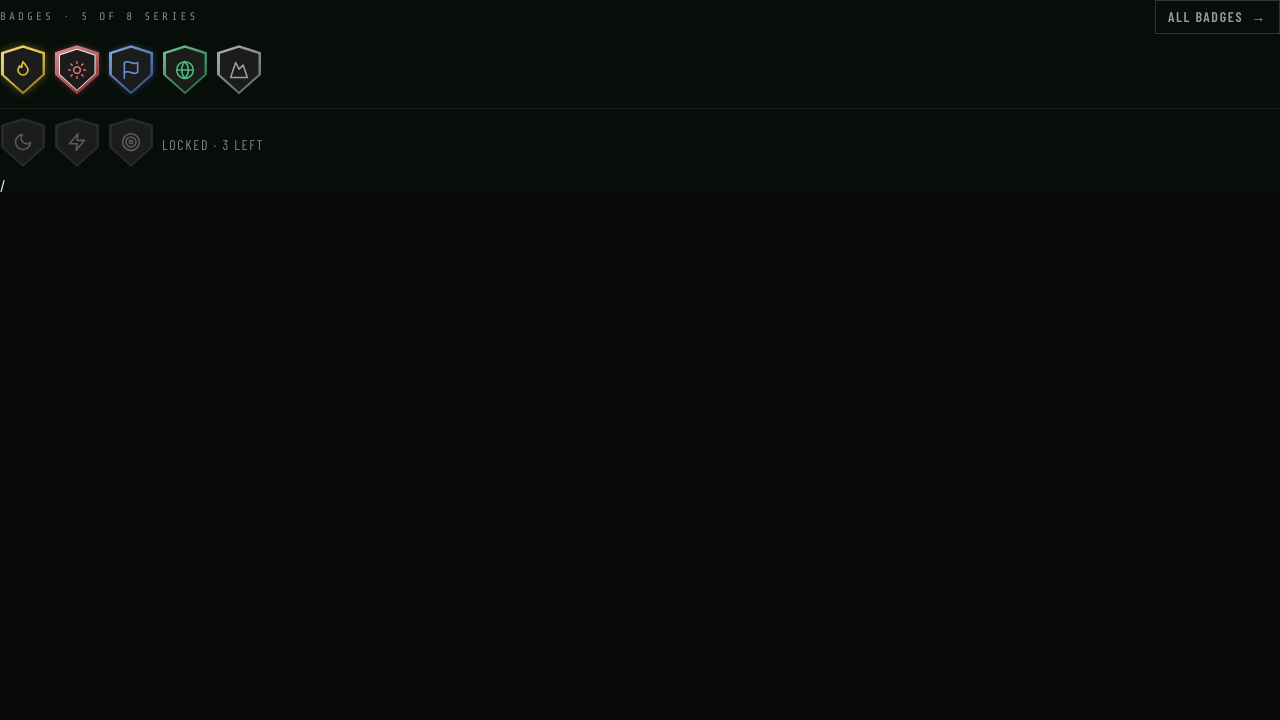
Test: BadgeSummary — popover per emblem (F10.4) › ett tryck på ett låst emblem visar Unlock men varken held-by eller flavor
Step 1. Click the button named "Locked Night Owl" → (23, 142), box x1=0 y1=117 x2=46 y2=168
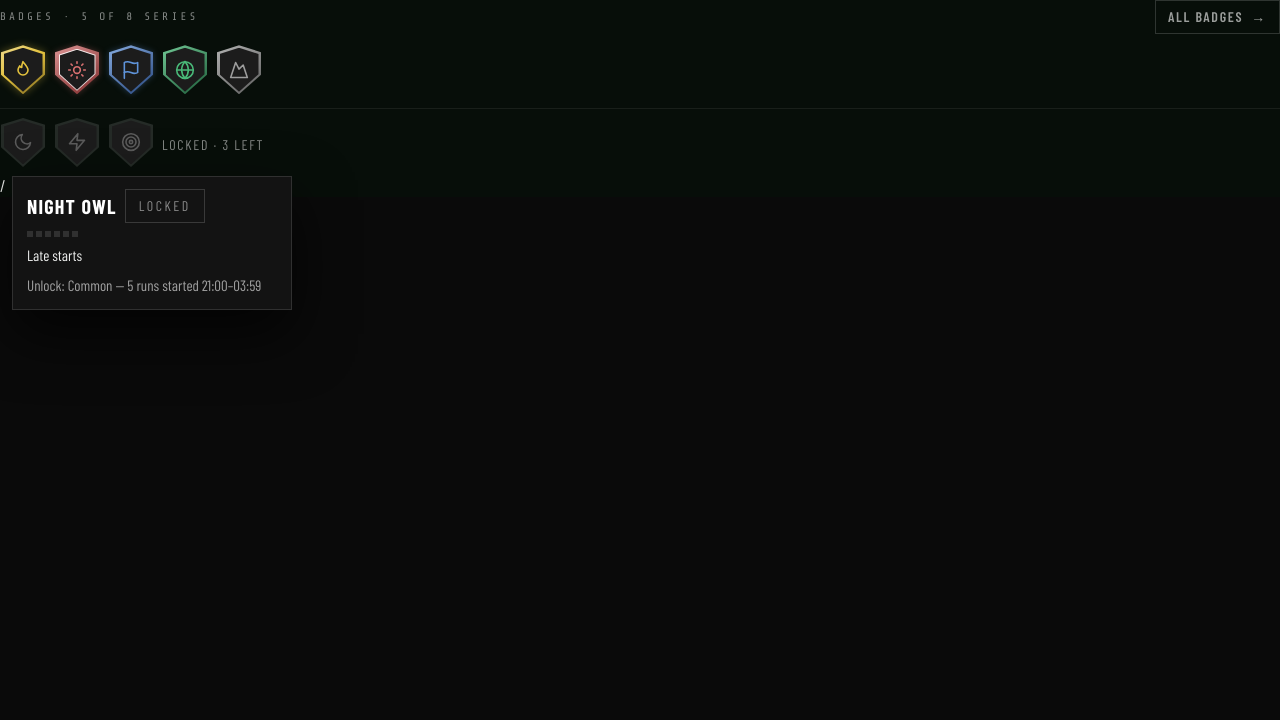
Result: the text "Unlock: Common — 5 runs started 21:00–03:59" is shown at x1=27 y1=275 x2=261 y2=297
